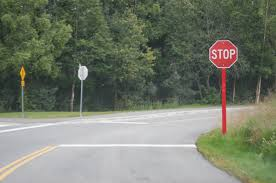stop_sign: (207, 39, 239, 69)
